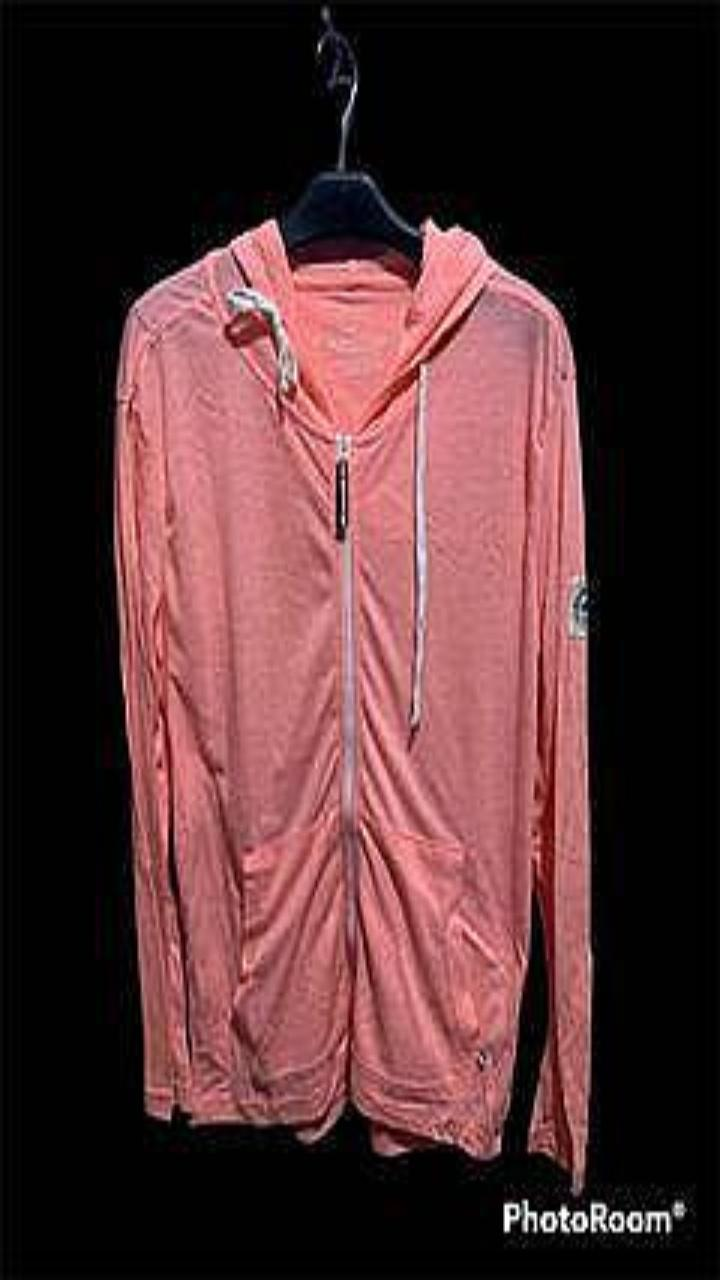Sports_Jacket: (114, 218, 591, 1192)
